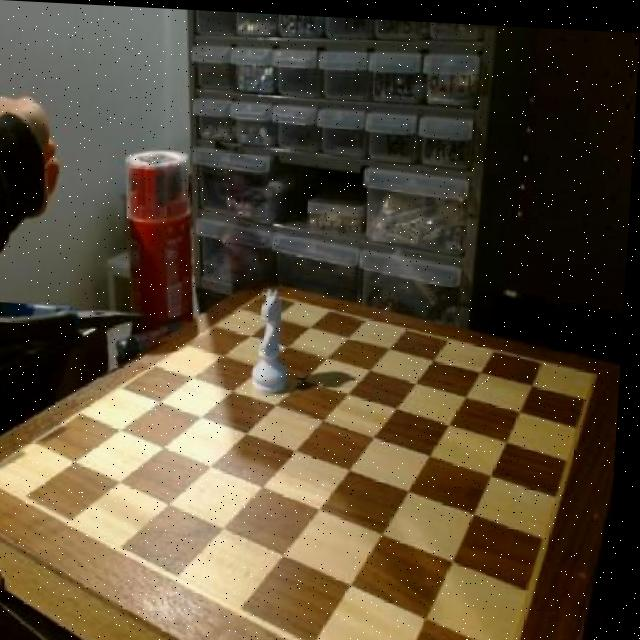white-king: (243, 280, 300, 399)
